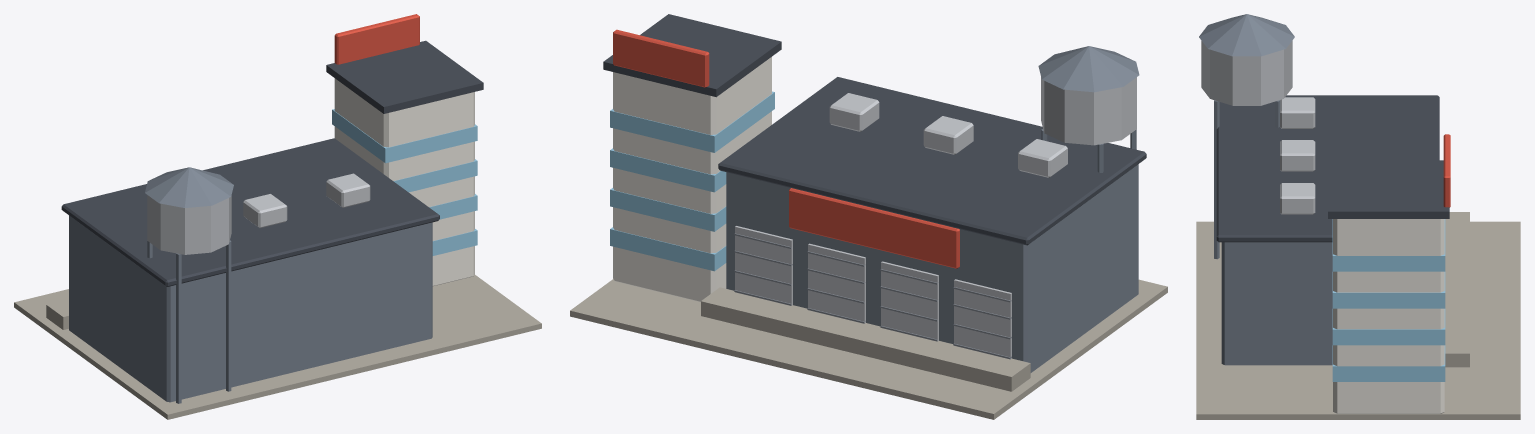
The model's file is garage_l4.glb.
3 renders of one model, left to right at view 1: azimuth 30°, elevation 25°; view 2: azimuth 150°, elevation 25°; view 3: azimuth 270°, elevation 25°, orthographic. The views are drawn at different scales.
Parts seen in each view (by area): view 1: garage_l4; view 2: garage_l4; view 3: garage_l4.
Boxes of the visible parts, x1,y1,x2,y2 form: garage_l4: (14,14,541,419); garage_l4: (570,14,1167,419); garage_l4: (1196,14,1520,419).
Bounding box in the file's own units: 9.1 × 5.25 × 6.4.
Materials: 1 (1 with a texture image).
